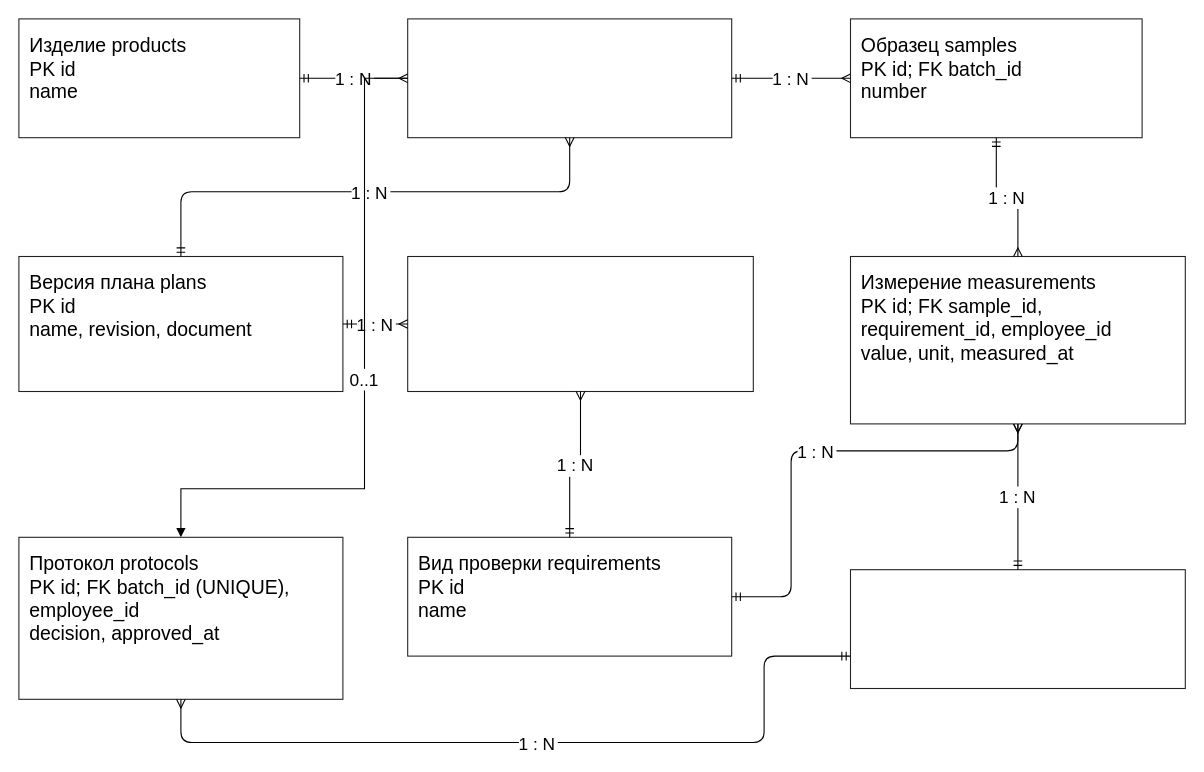
This 1204x772 diagram has some shape labels left out. Each missing label, with the box of its shape:
Попытка приёмки batches PK id; FK product_id, plan_id number: (407, 18, 732, 138)
Правило plan_requirements PK FK plan_id, requirement_id lower, upper, unit: (407, 255, 753, 392)
Сотрудник employees PK id name, role: (849, 569, 1185, 688)
